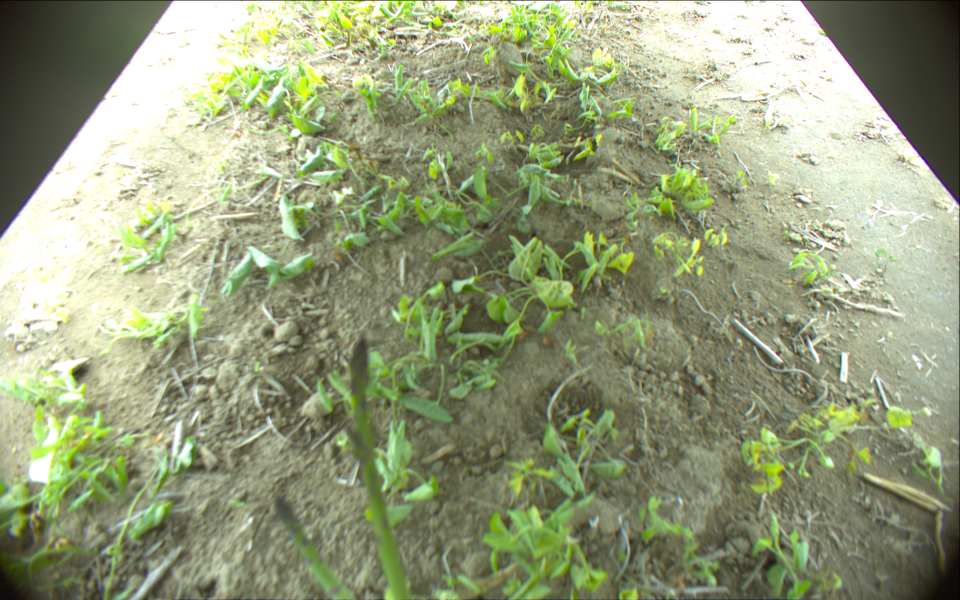aspa: (348, 336, 417, 600), (273, 496, 357, 600)
